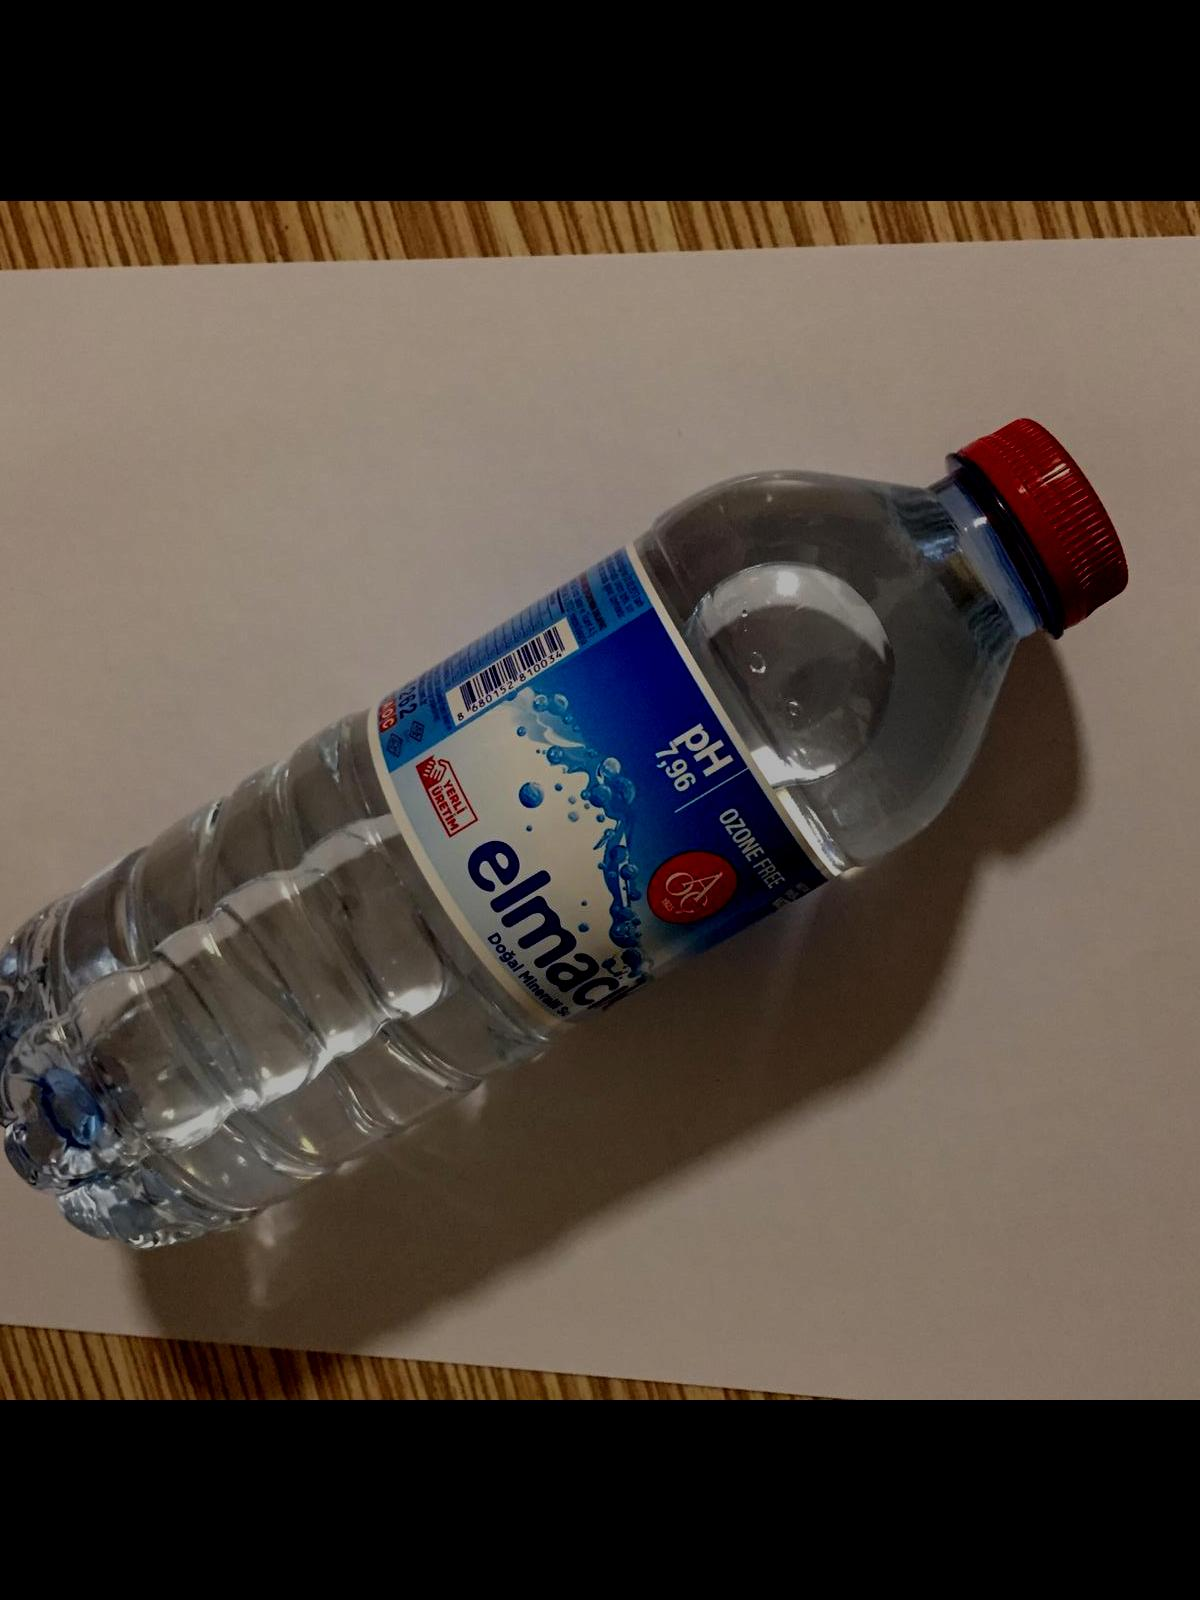bottle: (0, 416, 1129, 1245)
